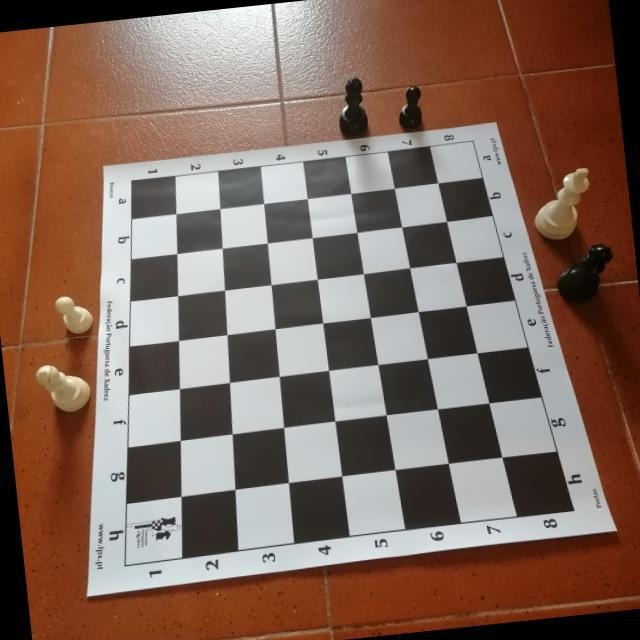black-bishop: (334, 74, 370, 137)
black-pawn: (395, 84, 425, 130)
black-queen: (552, 241, 619, 307)
white-bishop: (34, 359, 92, 415)
white-king: (528, 166, 596, 242)
white-pawn: (53, 292, 94, 336)
